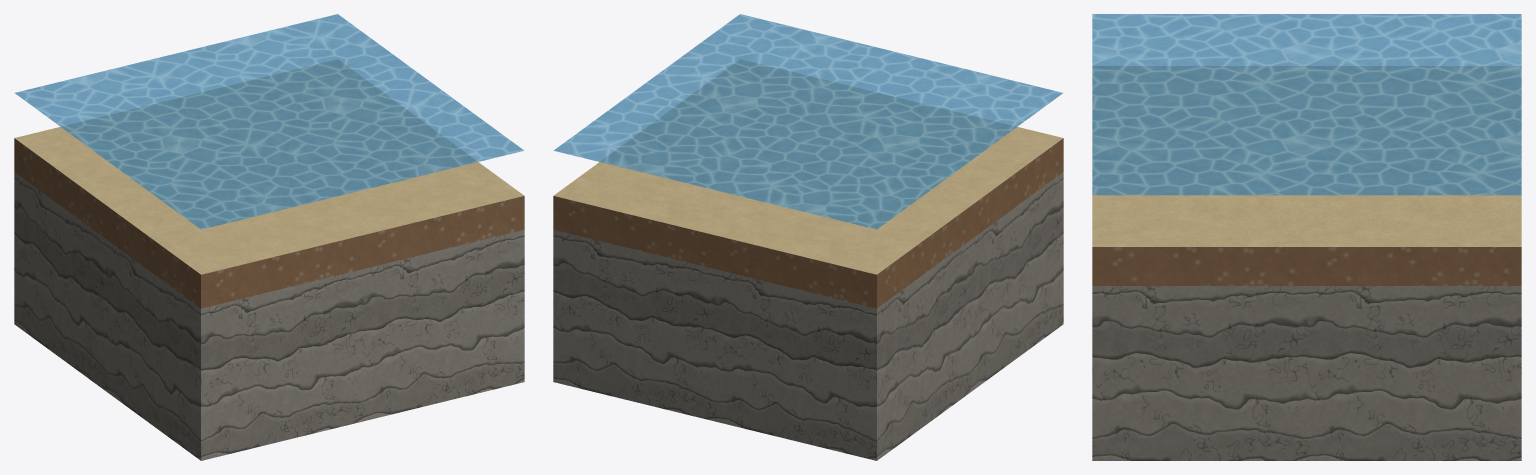
File: Water_Full_U.fbx
3 views of the same model, side by side, from view 1: azimuth 30°, elevation 25°; view 2: azimuth 150°, elevation 25°; view 3: azimuth 270°, elevation 25° (orthographic). The views are drawn at different scales.
Visible parts, largest first — view 1: Water_Full_U, Water_Full_U_Water; view 2: Water_Full_U, Water_Full_U_Water; view 3: Water_Full_U, Water_Full_U_Water.
Part boxes in pixels (x1,y1,x2,y2): Water_Full_U: [14, 59, 524, 460]; Water_Full_U_Water: [15, 14, 524, 229]; Water_Full_U: [553, 59, 1063, 460]; Water_Full_U_Water: [553, 14, 1062, 229]; Water_Full_U: [1092, 66, 1521, 460]; Water_Full_U_Water: [1092, 14, 1521, 195].
Size of the model in its own units: 3 by 2.05 by 3.
Materials: 4 (4 with a texture image).
